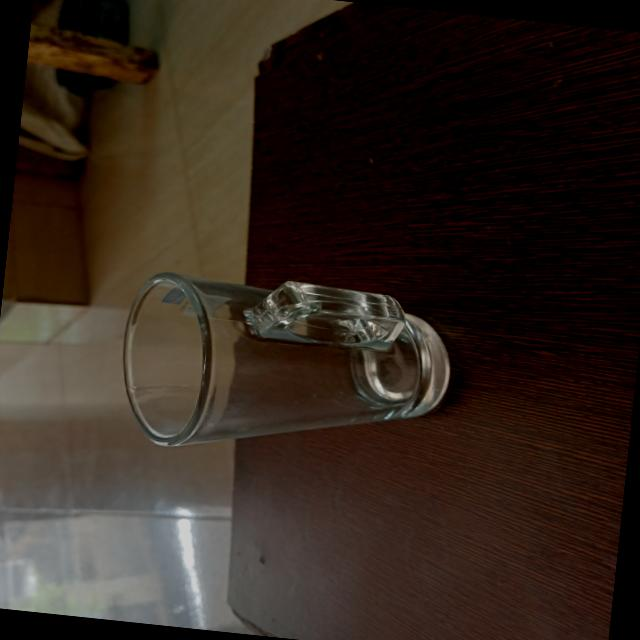glass-VX4N: (111, 264, 458, 474)
